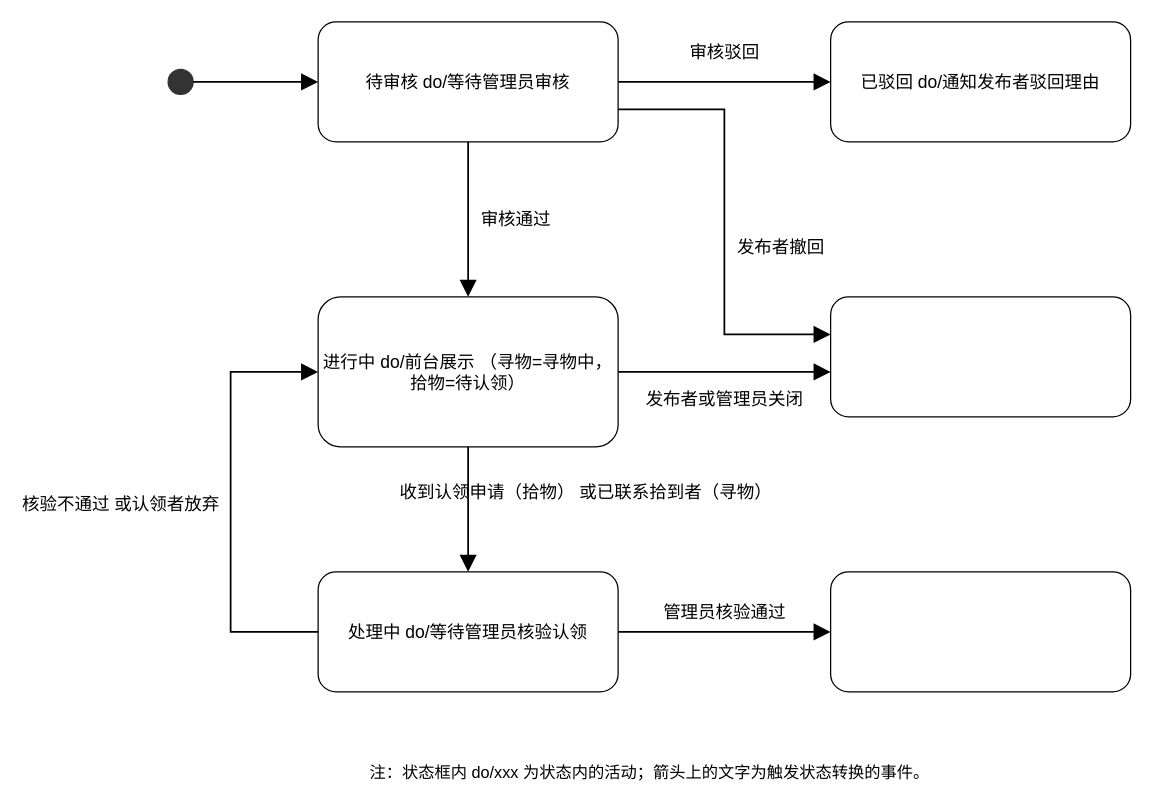
Some shapes in this 1153 by 806 pixel diagram are drawn without their labels. The shapes that lost their labels are listed below. From the top down, each one's box as (x1, y1, x2, y2) in pixels, then its label:
(829, 296, 1131, 417): 已关闭
(829, 571, 1131, 692): 已完成 do/标记已归还/已找回
